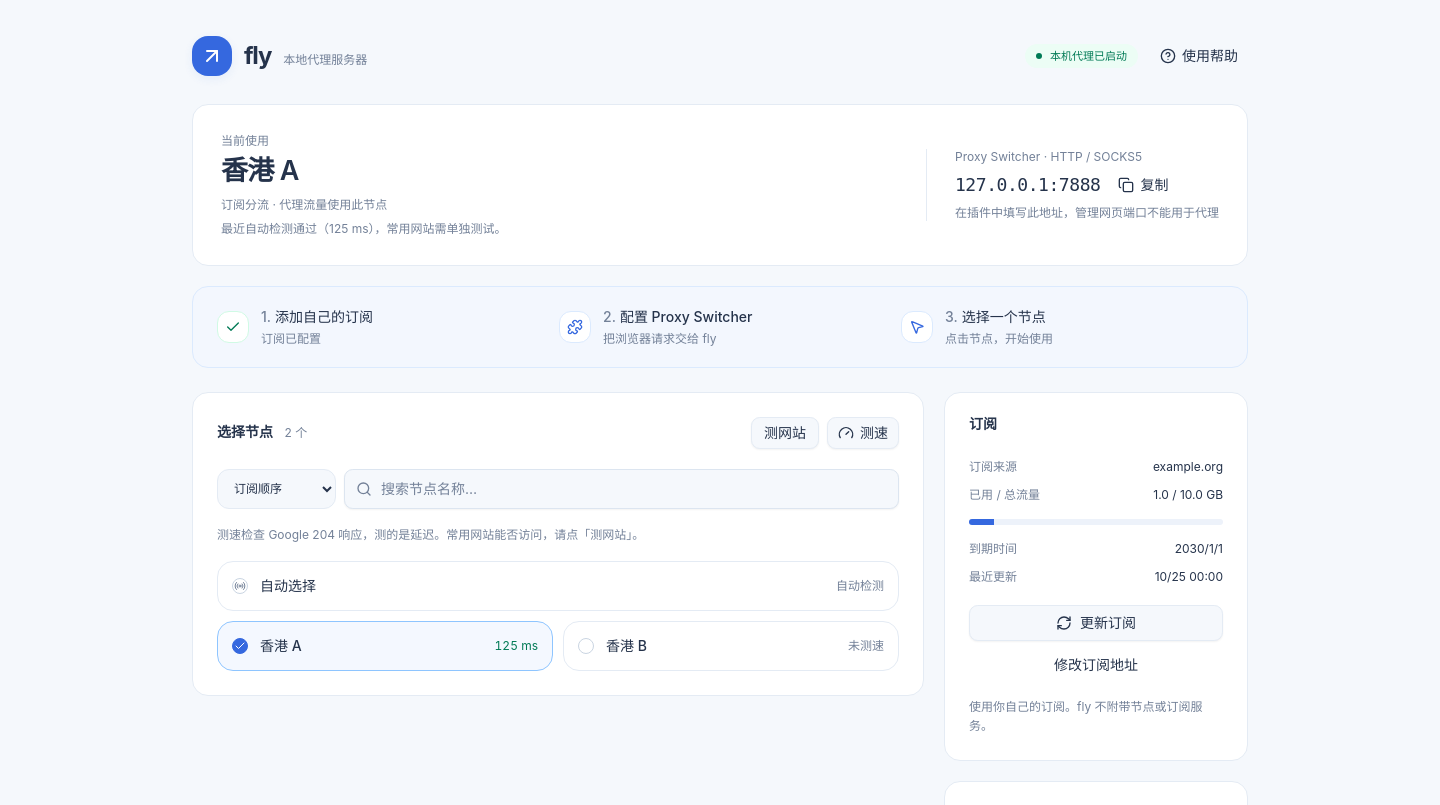
Test: does not expose a subscription token in page text
Click the button "修改订阅地址": {"x": 1096, "y": 665} [969,649,1223,681]
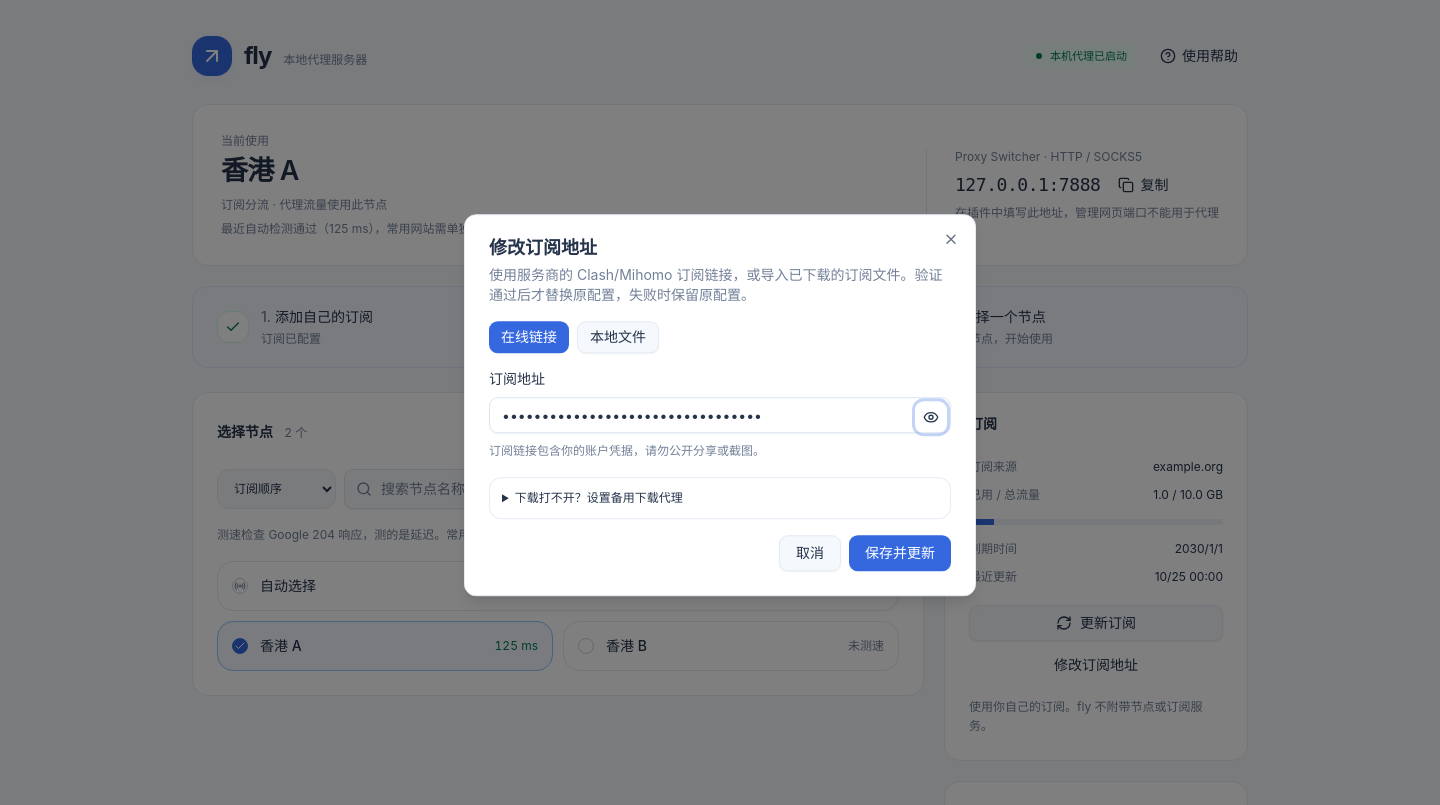
Expected: the password field labelled "订阅地址" holds "https://example.org/private-token", [489,397,951,433]
